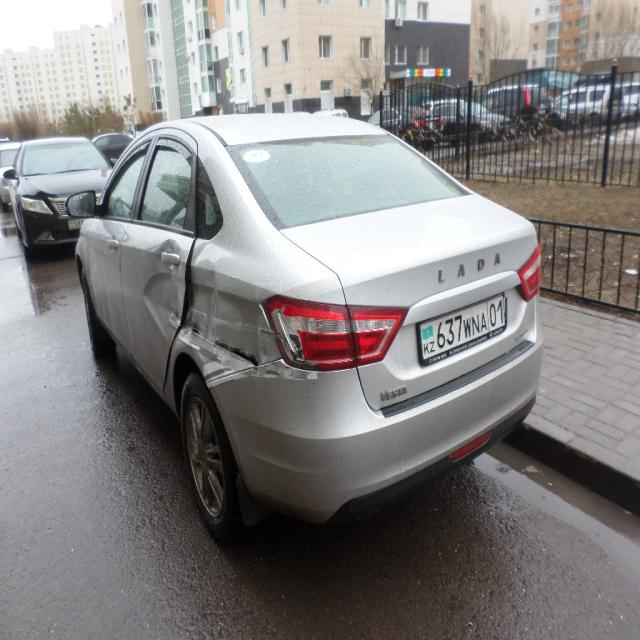Cabossage: (144, 265, 192, 334)
Dechirure: (185, 324, 261, 372)
Rayure: (176, 339, 323, 381), (191, 310, 302, 342)
